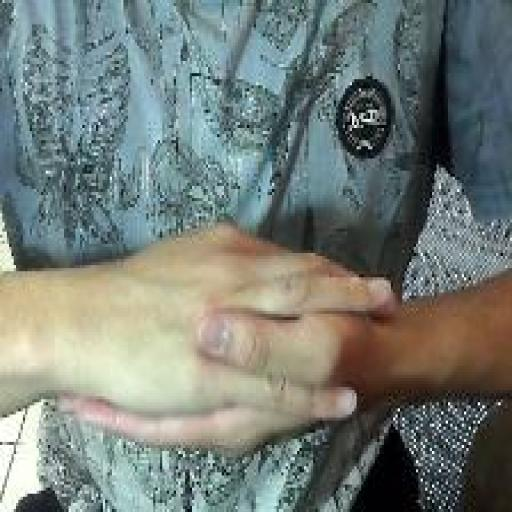Saru -monkey-: (53, 214, 402, 470)
